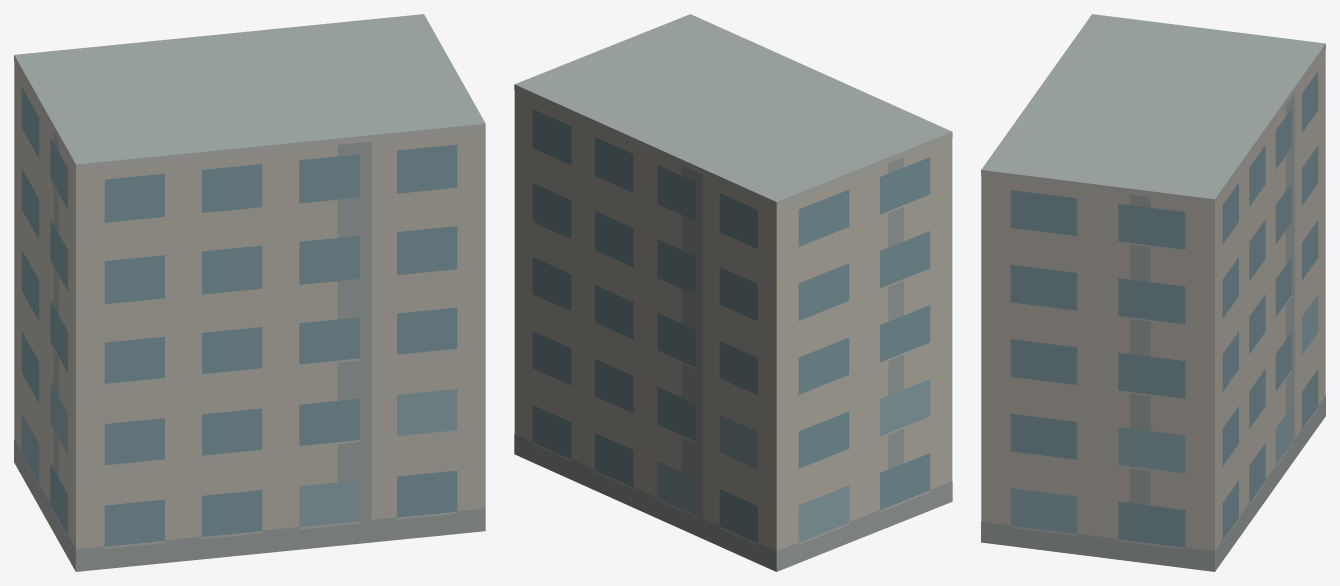
The model's file is survey-upis-32945607.glb.
The picture shows the model from 3 angles, left to right: view 1: azimuth 30°, elevation 25°; view 2: azimuth 150°, elevation 25°; view 3: azimuth 270°, elevation 25°; orthographic projection. The views are drawn at different scales.
Visible parts, largest first — view 1: survey-upis-32945607.tmp; view 2: survey-upis-32945607.tmp; view 3: survey-upis-32945607.tmp.
Part boxes in pixels (x1,y1,x2,y2): survey-upis-32945607.tmp: (14, 14, 485, 571); survey-upis-32945607.tmp: (514, 14, 952, 571); survey-upis-32945607.tmp: (981, 14, 1325, 571).
Size of the model in its own units: 16.43 by 15.4 by 12.92.
